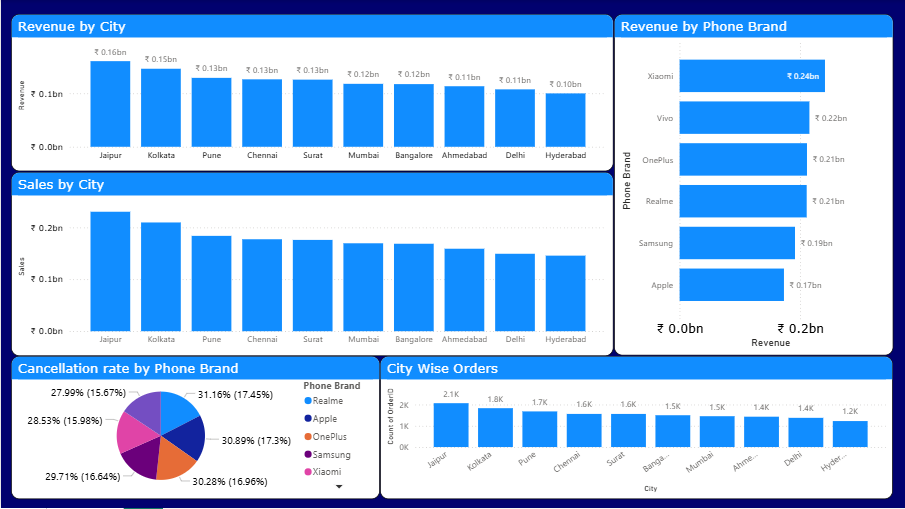

The dashboard page shown, as its layout file describes it:
{"tool":"powerbi","page":{"name":"Page 2","canvas":[1280,720],"ordinal":1},"visuals":[{"type":"columnChart","fields":{"Category":["Customers.City"],"Y":["Table.Revenue"]},"box":[14.4,20.2,853.9,223.2],"z":0},{"type":"columnChart","fields":{"Category":["Customers.City"],"Y":["Table.Sales"]},"box":[14.4,243.4,853.9,260.6],"z":1000},{"type":"barChart","fields":{"Category":["Customers.Phone Brand"],"Y":["Table.Revenue"]},"box":[868.3,20.2,396,483.8],"z":2000},{"type":"pieChart","fields":{"Category":["Customers.Phone Brand"],"Y":["Table.Cancellation rate"]},"box":[14.4,504,522.7,203],"z":3000},{"type":"columnChart","title":"City Wise Orders","fields":{"Category":["Customers.City"],"Y":["CountNonNull(Orders.OrderID)"]},"box":[537.1,504,727.2,203],"z":4000}]}

Visuals, with their boxes in screenshot pixels (x1, y1, x2, y2), scaled from the page's 1280x720 canvas onto the 905x509 screenshot:
columnChart - Customers.City x Table.Revenue: pyautogui.locateOnScreen(10, 14, 614, 172)
columnChart - Customers.City x Table.Sales: pyautogui.locateOnScreen(10, 172, 614, 356)
barChart - Customers.Phone Brand x Table.Revenue: pyautogui.locateOnScreen(614, 14, 894, 356)
pieChart - Customers.Phone Brand x Table.Cancellation rate: pyautogui.locateOnScreen(10, 356, 380, 500)
"City Wise Orders" columnChart: pyautogui.locateOnScreen(380, 356, 894, 500)
